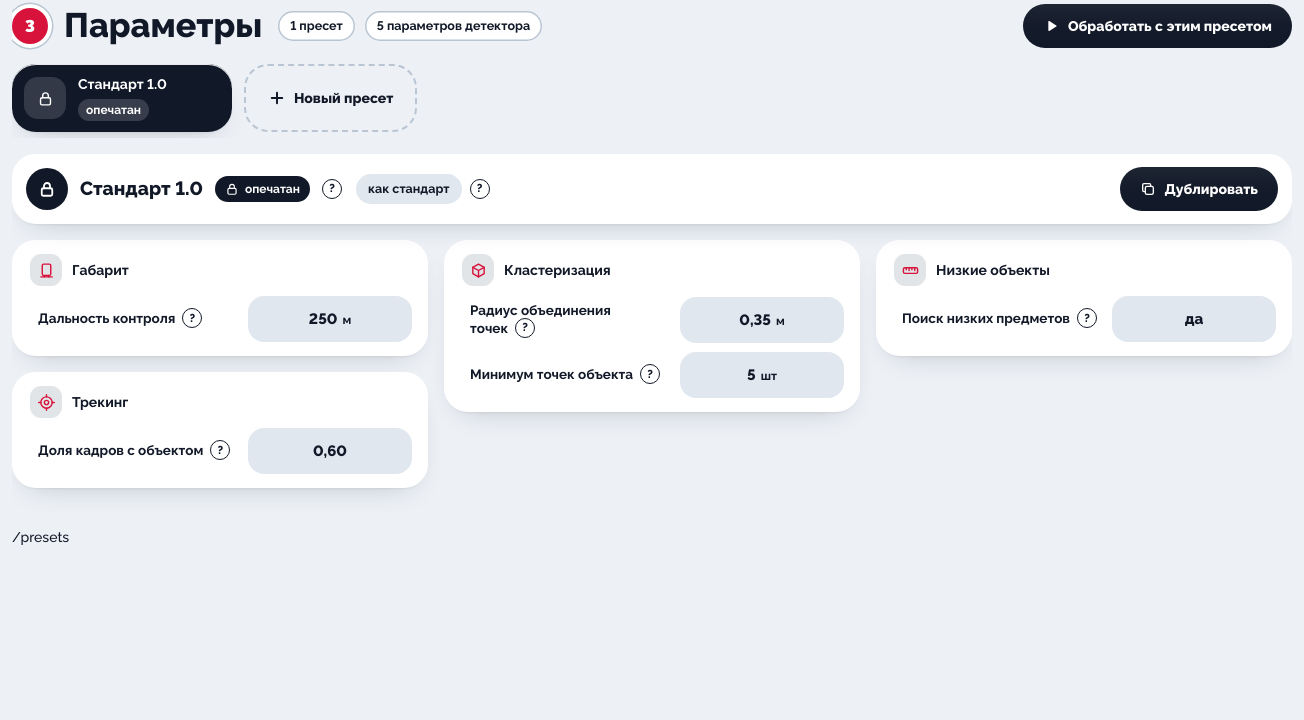
Test case: Presets page › duplicates the built-in, counts the changes and creates the preset with only the overrides
Click the button "Дублировать".
click(1199, 189)  # box [1120,167,1278,211]
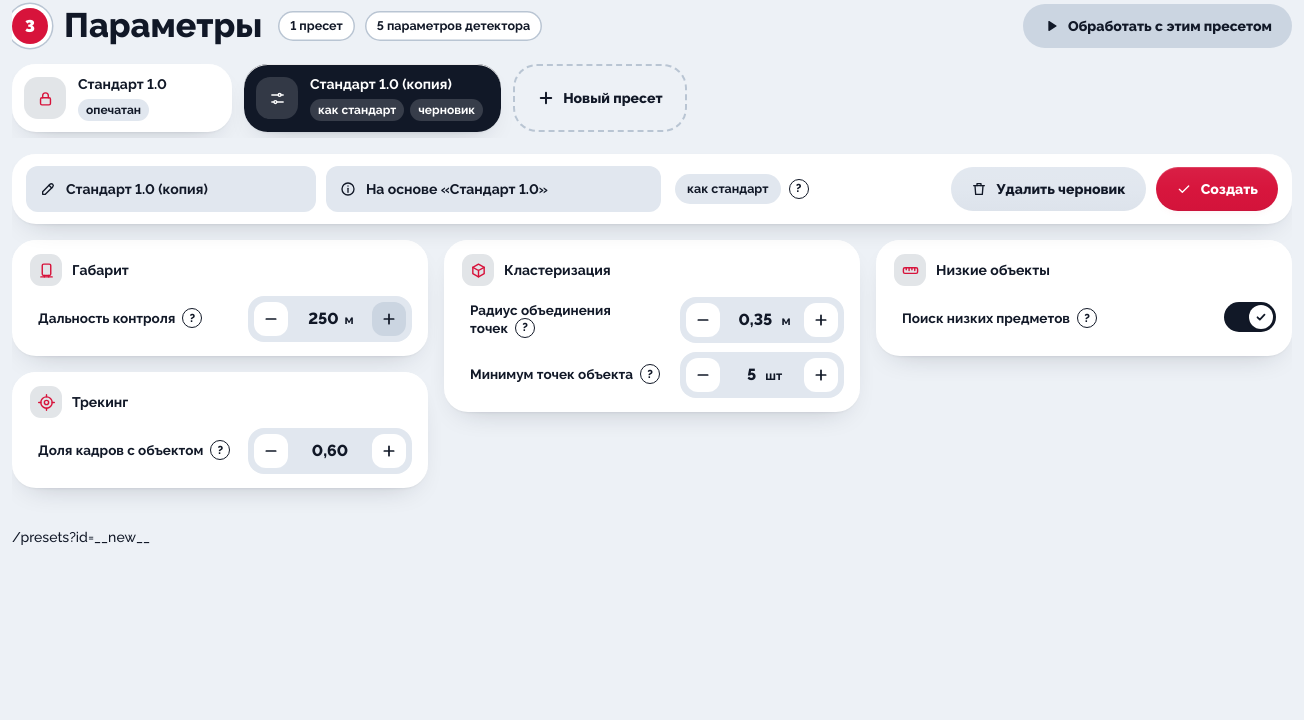
Check: the field named "Название пресета" holds "Стандарт 1.0 (копия)", box [66,166,302,212]
Check: the field named "Описание пресета" holds "На основе «Стандарт 1.0»", box [366,166,647,212]
Click the button named "Минимум точек объекта: больше".
click(821, 375)  # box [804,358,838,392]
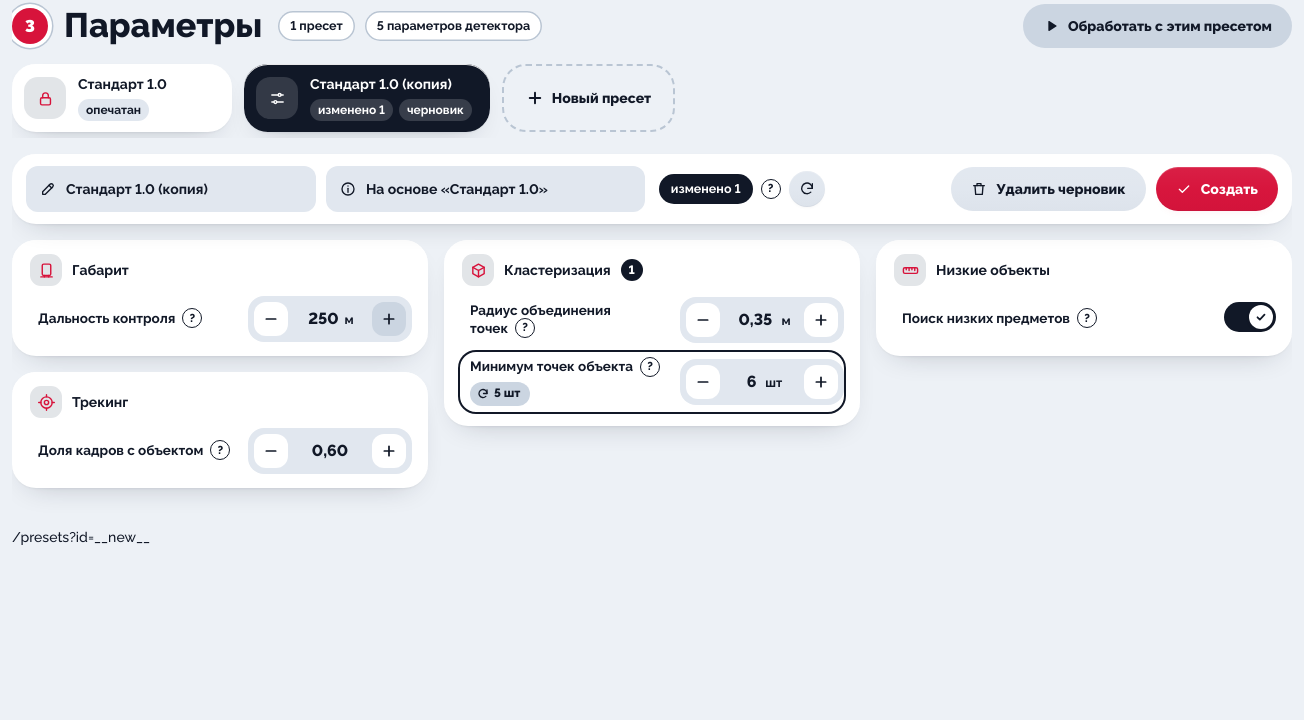
Click the switch named "Поиск низких предметов".
click(1250, 316)  # box [1224,302,1276,332]
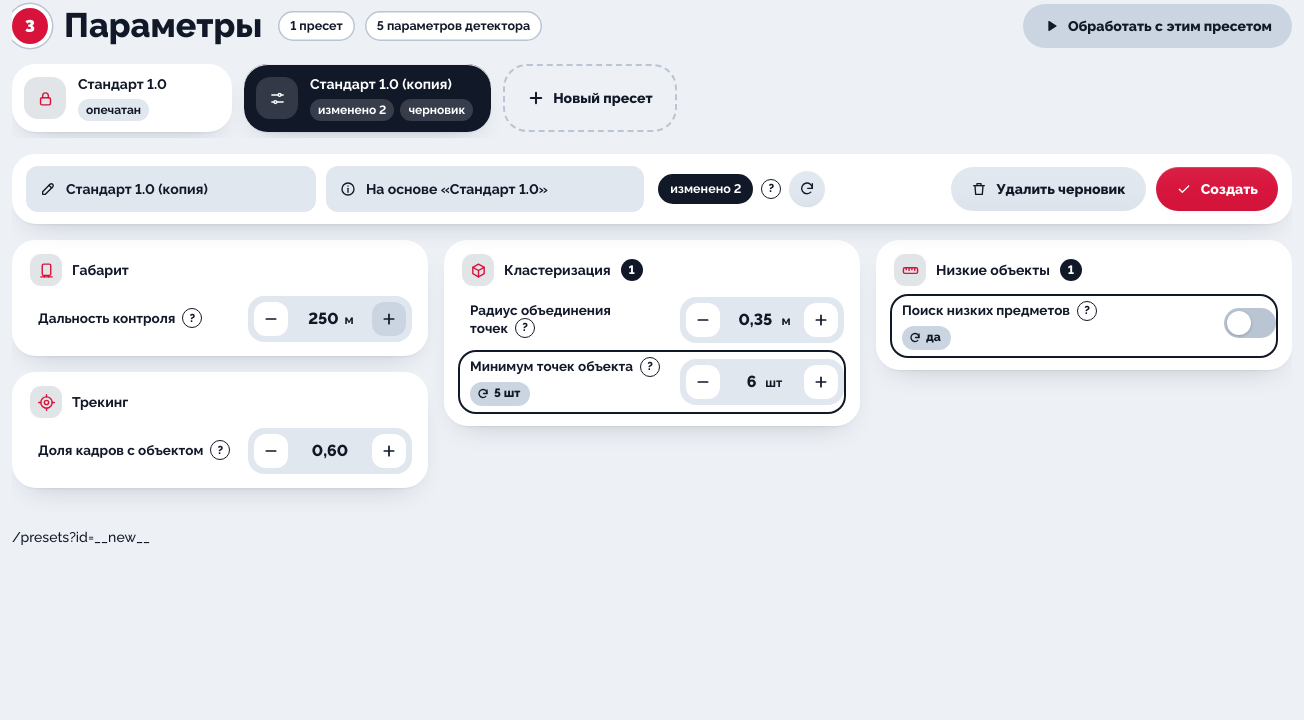
Check: the button with aria-label "Поиск низких предметов: сбросить" is shown, box [902,326,951,350]
Click the button "Создать".
click(1217, 189)  # box [1156,167,1278,211]
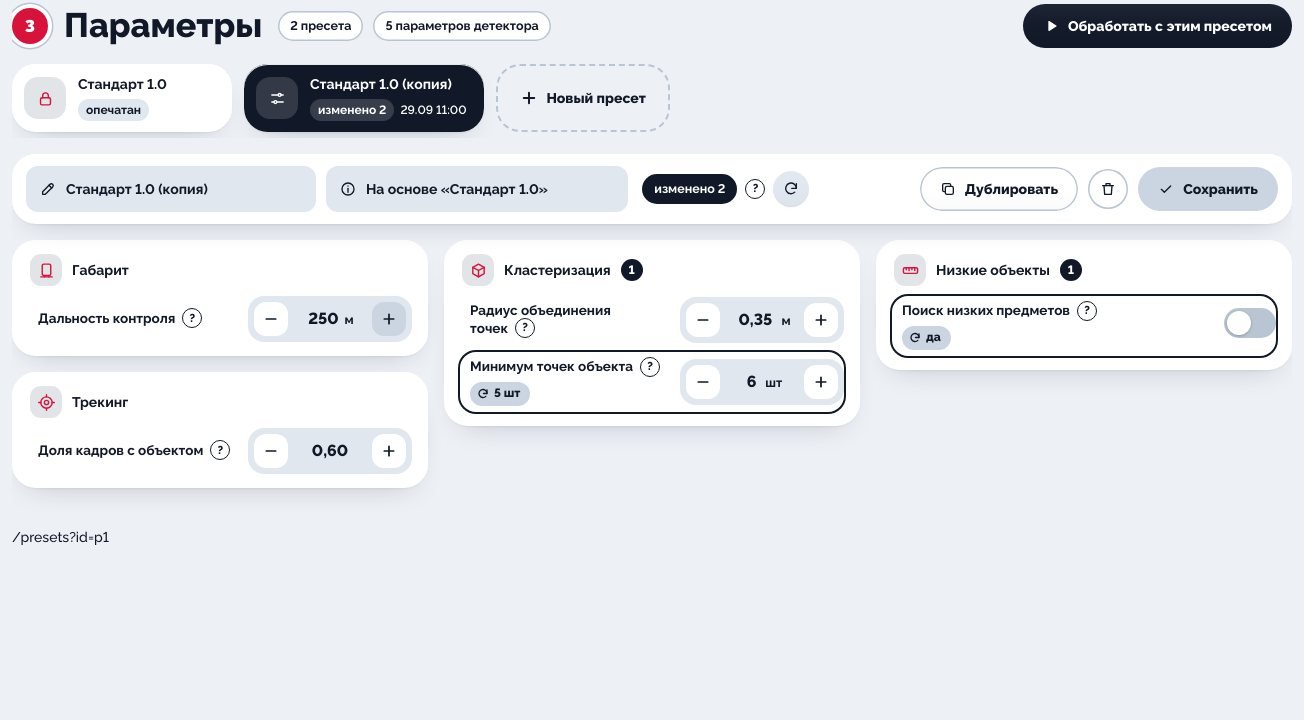
Check: the text with test id "where" reads "/presets?id=p1", box [12,529,109,545]
